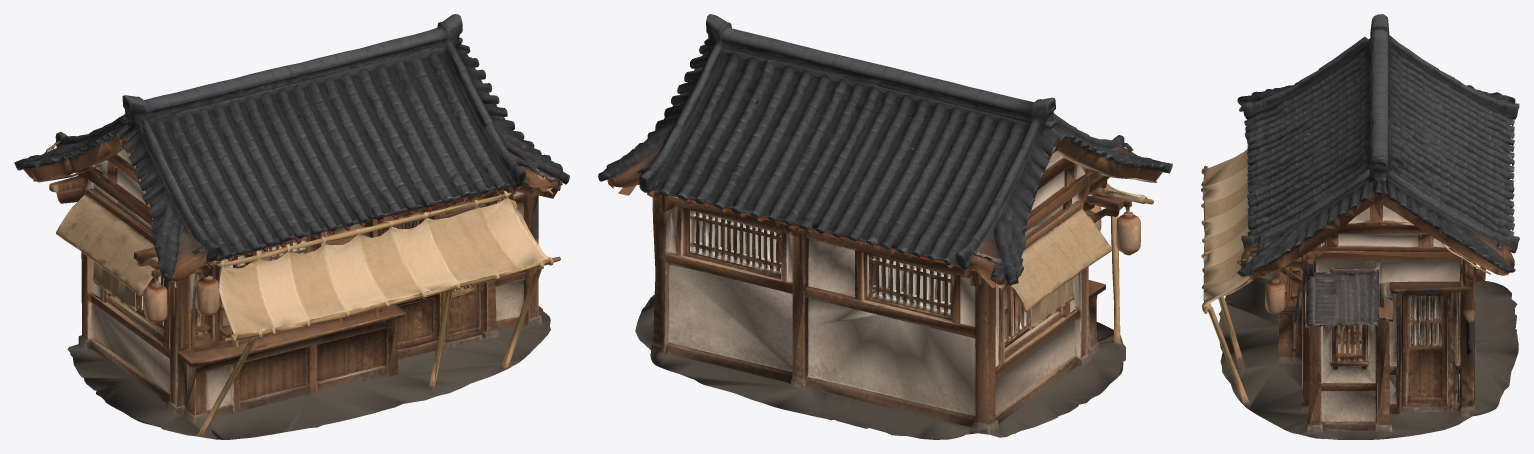
File: 05_Tea_Stall_Shop_LOD1.fbx
The picture shows the model from 3 angles, left to right: view 1: azimuth 30°, elevation 25°; view 2: azimuth 150°, elevation 25°; view 3: azimuth 270°, elevation 25°; orthographic projection. The views are drawn at different scales.
Visible parts, largest first — view 1: 05_Tea_Stall_Shop_L1; view 2: 05_Tea_Stall_Shop_L1; view 3: 05_Tea_Stall_Shop_L1.
Part boxes in pixels (left/top/right/bottom): 05_Tea_Stall_Shop_L1: left=14, top=14, right=569, bottom=439; 05_Tea_Stall_Shop_L1: left=598, top=14, right=1172, bottom=439; 05_Tea_Stall_Shop_L1: left=1201, top=14, right=1519, bottom=439.
Bounding box in the file's own units: 7.88 × 5 × 5.61.
